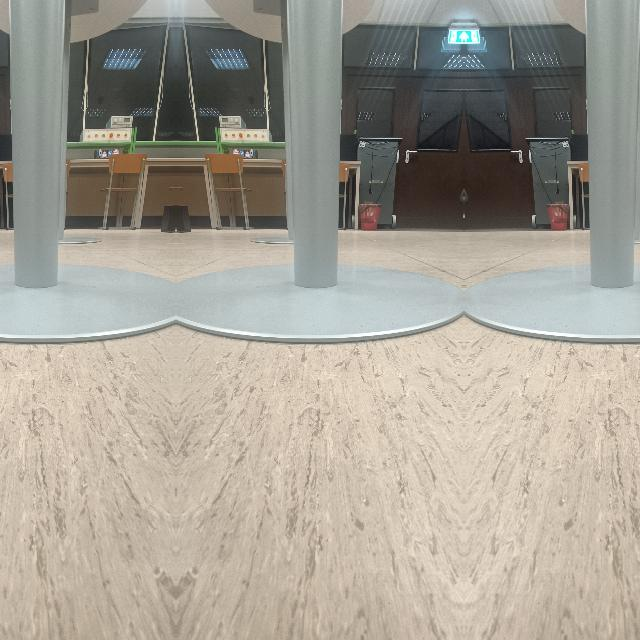obstacle: (178, 58, 462, 342), (465, 57, 640, 342), (0, 57, 172, 342)
